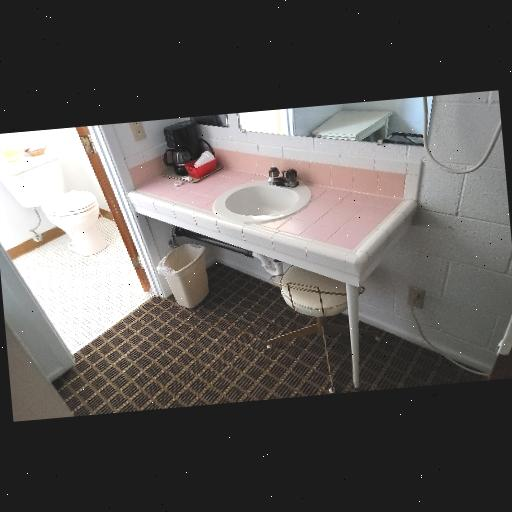clean_floor: (15, 214, 329, 416)
clean_sink: (132, 130, 419, 291)
